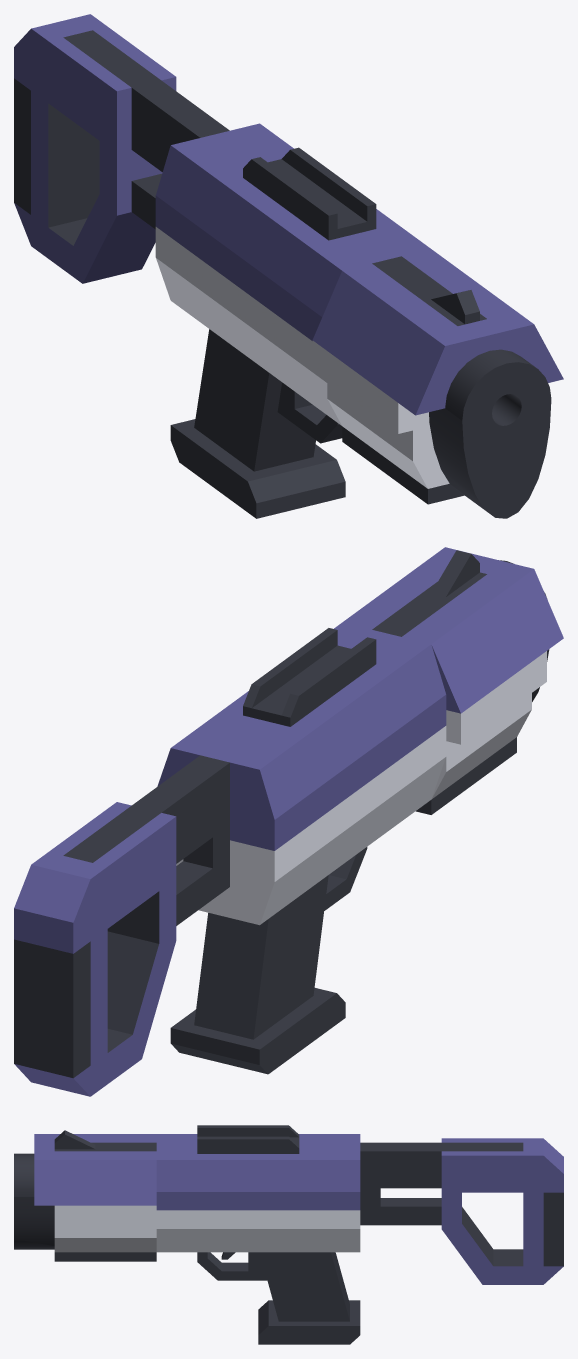
File: SMG.fbx
The picture shows the model from 3 angles, top to bottom: view 1: azimuth 30°, elevation 25°; view 2: azimuth 150°, elevation 25°; view 3: azimuth 270°, elevation 25°; orthographic projection. The views are drawn at different scales.
Visible parts, largest first — view 1: mediumBlaster_handle, largeBlaster_barrelSpace, stock_tactical, detailRail_front, detailTargetSightFront; view 2: mediumBlaster_handle, stock_tactical, largeBlaster_barrelSpace, detailRail_front, detailTargetSightFront; view 3: mediumBlaster_handle, stock_tactical, largeBlaster_barrelSpace, detailRail_front, detailTargetSightFront.
Boxes of the visible parts, left/top/right/bottom form: mediumBlaster_handle: left=155, top=123, right=430, bottom=518; largeBlaster_barrelSpace: left=312, top=249, right=563, bottom=518; stock_tactical: left=14, top=14, right=229, bottom=283; detailRail_front: left=243, top=147, right=376, bottom=240; detailTargetSightFront: left=431, top=290, right=479, bottom=324; mediumBlaster_handle: left=157, top=622, right=446, bottom=1074; stock_tactical: left=14, top=755, right=229, bottom=1096; largeBlaster_barrelSpace: left=342, top=547, right=563, bottom=814; detailRail_front: left=243, top=628, right=376, bottom=726; detailTargetSightFront: left=431, top=550, right=479, bottom=597; mediumBlaster_handle: left=156, top=1134, right=360, bottom=1344; stock_tactical: left=360, top=1138, right=563, bottom=1284; largeBlaster_barrelSpace: left=14, top=1134, right=156, bottom=1261; detailRail_front: left=197, top=1125, right=299, bottom=1153; detailTargetSightFront: left=54, top=1130, right=95, bottom=1149.
Bounding box in the file's own units: 5 × 10.8 × 27.
